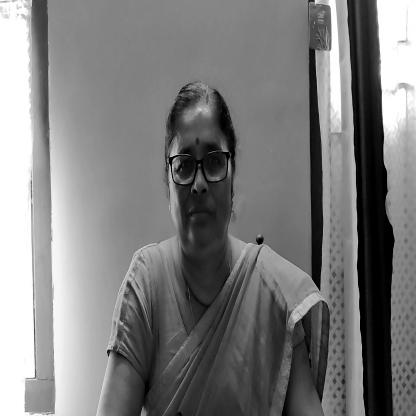Normal: (160, 71, 240, 263)
